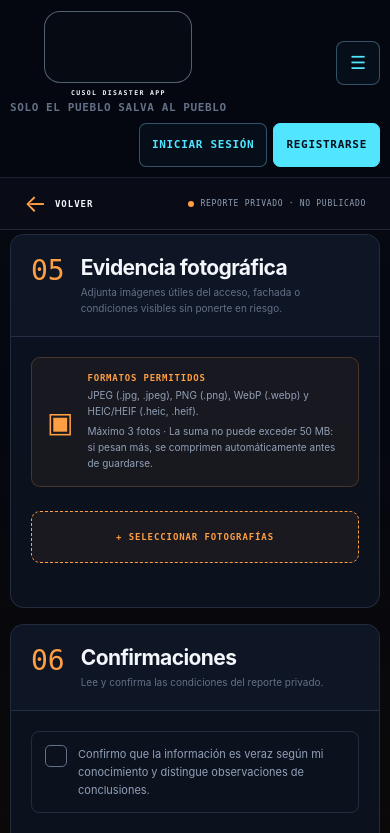
it: CHG-035 · Reporte de edificio con búsqueda pendiente › lista una fotografía y permite retirarla
(page scrolled)
Click the button with aria-label "Seleccionar fotografías del edificio". click: (195, 537)
box: [31,511,359,563]
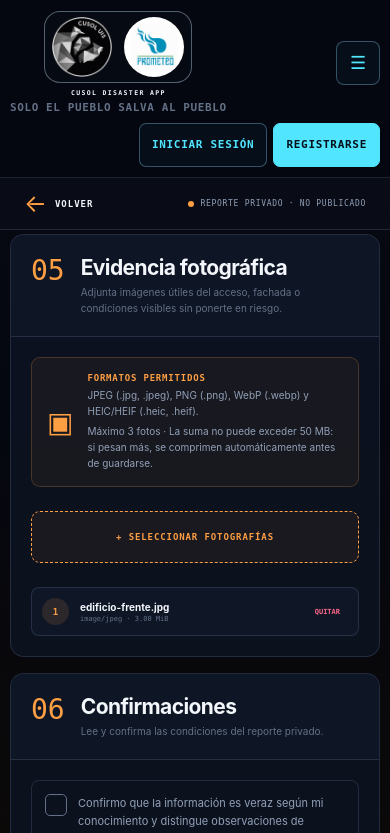
Result: the text "edificio-frente.jpg" is shown at [80,600,169,612]
Result: the text "image/jpeg · 3.00 MiB" is shown at [80,614,168,622]
Click the button with aria-label "Quitar fotografía edificio-frente.jpg". click: (327, 612)
box: [307,600,348,622]
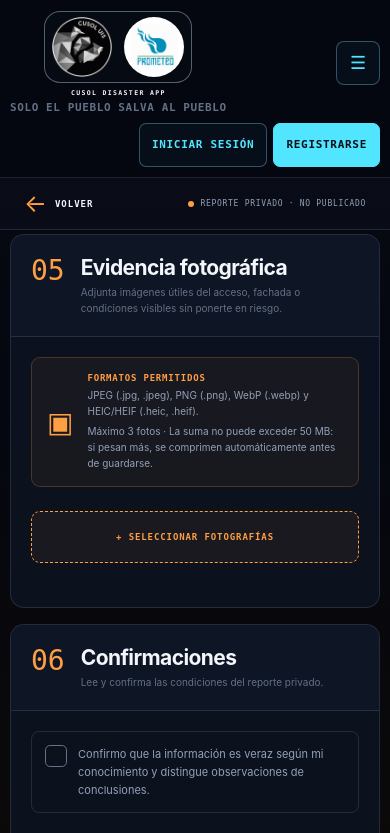
Result: the text "edificio-frente.jpg" is gone
